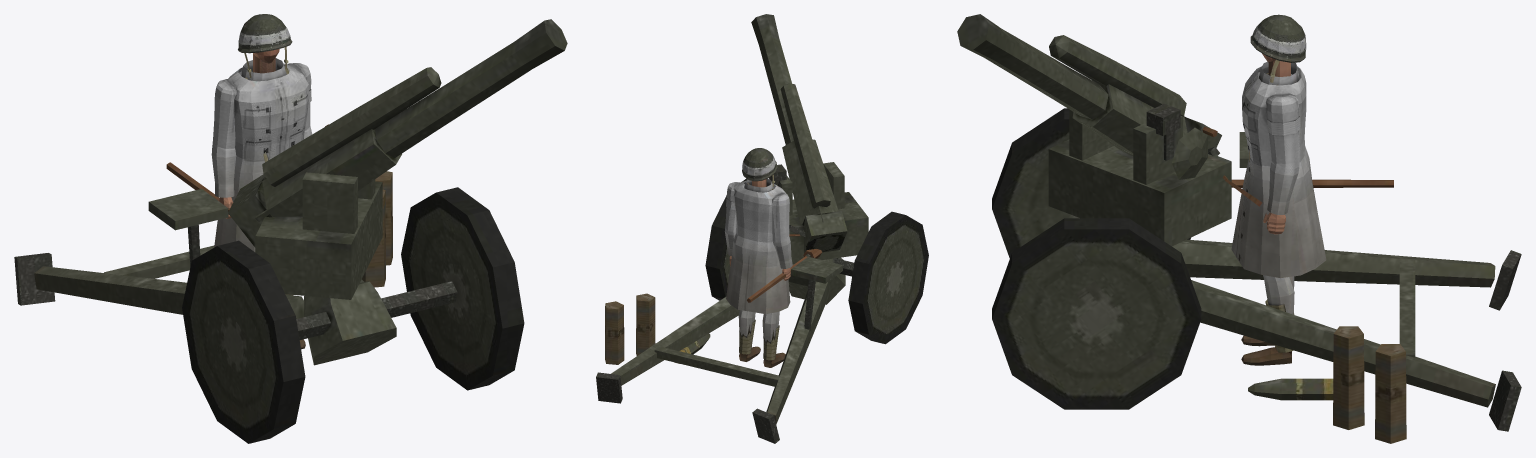
File: fieldgun.glb
3 views of the same model, side by side, from view 1: azimuth 30°, elevation 25°; view 2: azimuth 150°, elevation 25°; view 3: azimuth 270°, elevation 25° (orthographic). The views are drawn at different scales.
Parts seen in each view (by area): view 1: fieldgun_LOD0; view 2: fieldgun_LOD0; view 3: fieldgun_LOD0.
Part boxes in pixels (box(x1,y1,x2,y2)): fieldgun_LOD0: box(14, 14, 567, 443); fieldgun_LOD0: box(596, 14, 928, 443); fieldgun_LOD0: box(957, 14, 1521, 443).
Size of what is drawn, in the model's own units: 1.81 by 2.19 by 2.69.
Materials: 1 (1 with a texture image).
